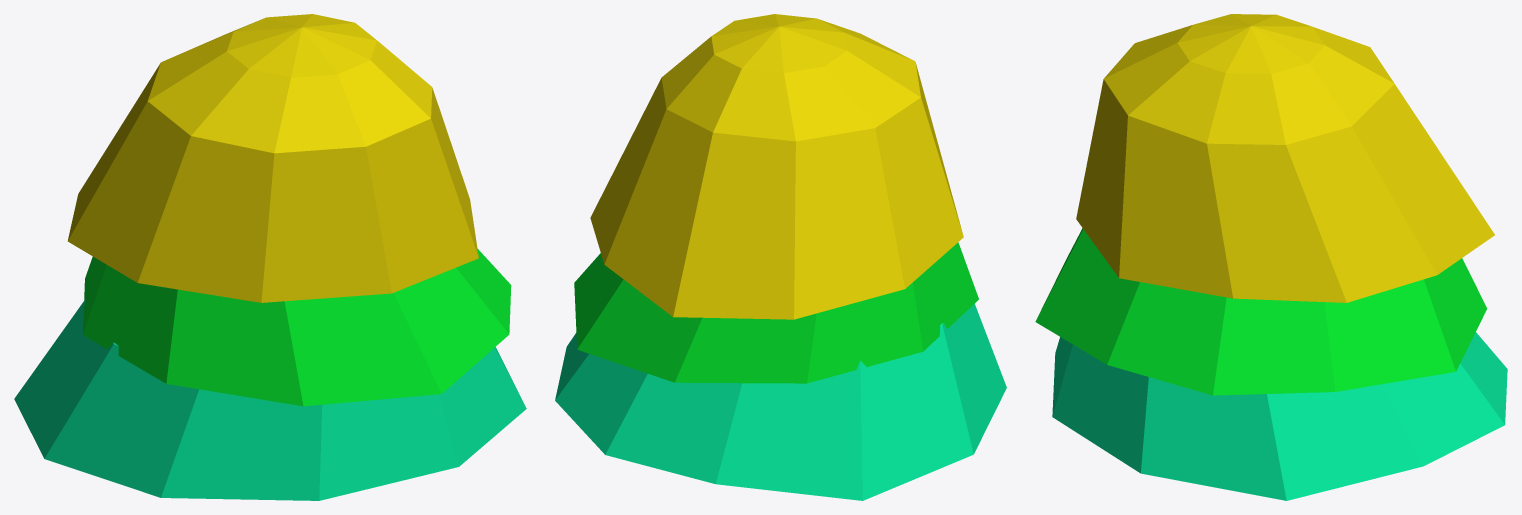
File: BushBase.fbx
3 views of the same model, side by side, from view 1: azimuth 30°, elevation 25°; view 2: azimuth 150°, elevation 25°; view 3: azimuth 270°, elevation 25° (orthographic). The views are drawn at different scales.
Visible parts, largest first — view 1: pSphere4; view 2: pSphere4; view 3: pSphere4.
Part boxes in pixels (x1,y1,x2,y2): pSphere4: (14, 14, 526, 500); pSphere4: (555, 14, 1006, 500); pSphere4: (1035, 14, 1507, 500).
Size of the model in its own units: 2.3 by 1.95 by 2.17.
